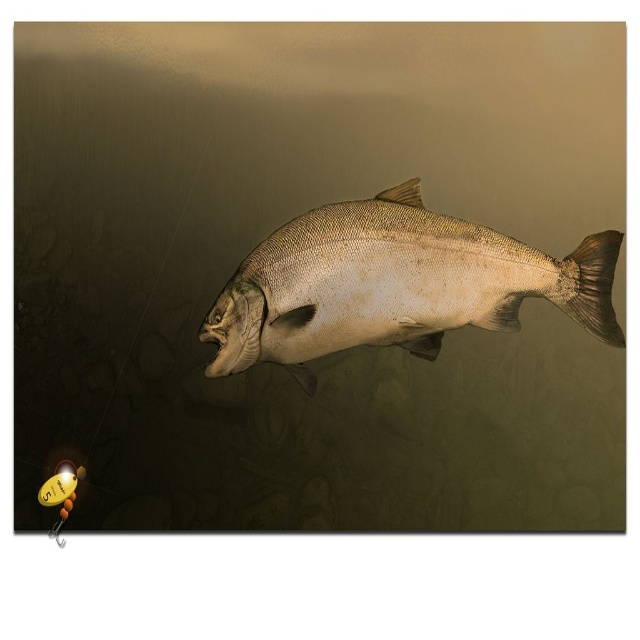Fish: (184, 171, 632, 399)
